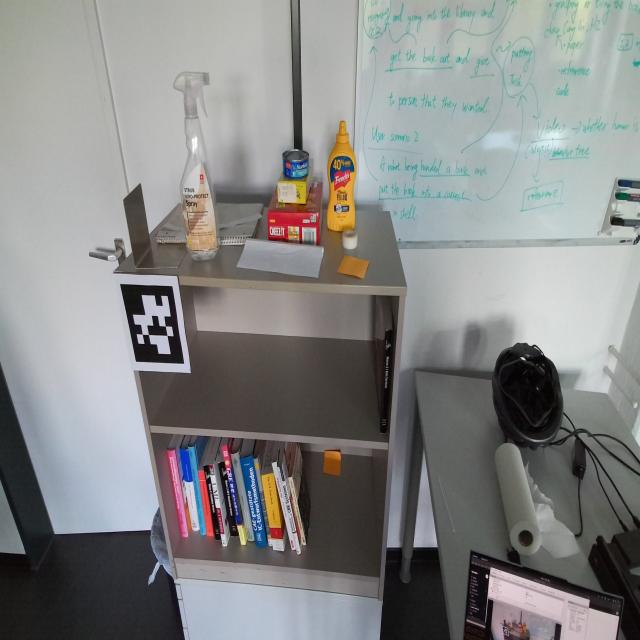Book Spine: (221, 445, 246, 546), (241, 455, 266, 549), (231, 451, 255, 541), (272, 462, 296, 551), (278, 466, 301, 555), (167, 449, 189, 537), (261, 473, 285, 551), (179, 449, 200, 532), (188, 445, 207, 536), (218, 461, 239, 538), (254, 458, 272, 547), (209, 464, 226, 547), (204, 464, 221, 540), (288, 476, 306, 546), (381, 331, 392, 434), (199, 470, 214, 537)
